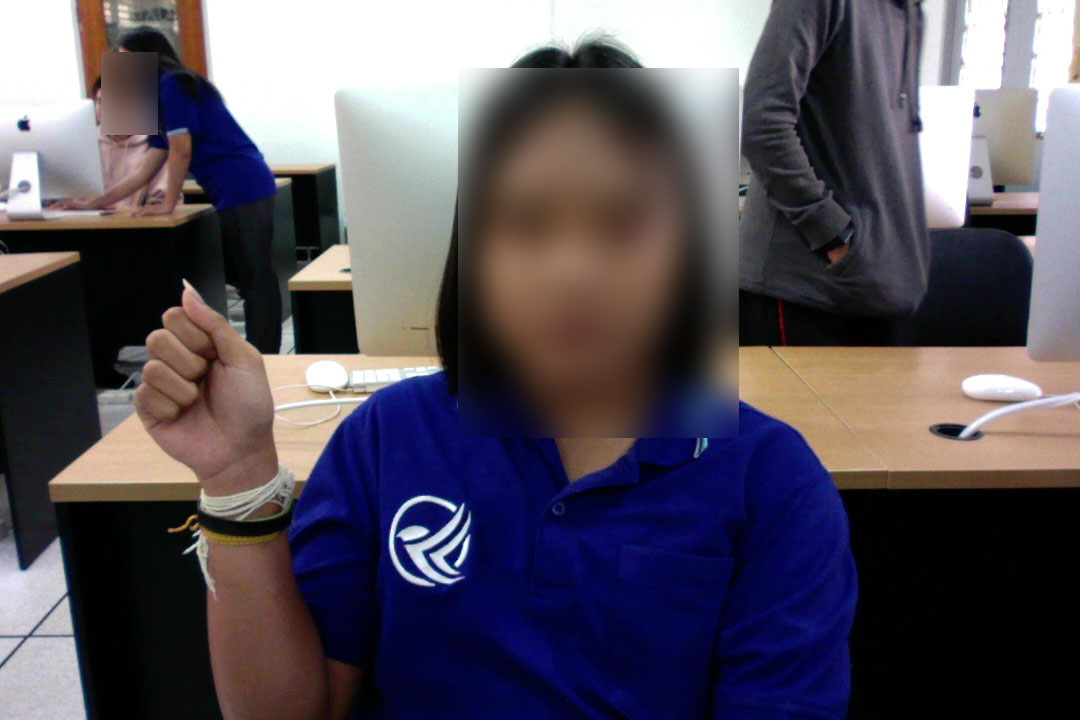or: (122, 272, 288, 502)
